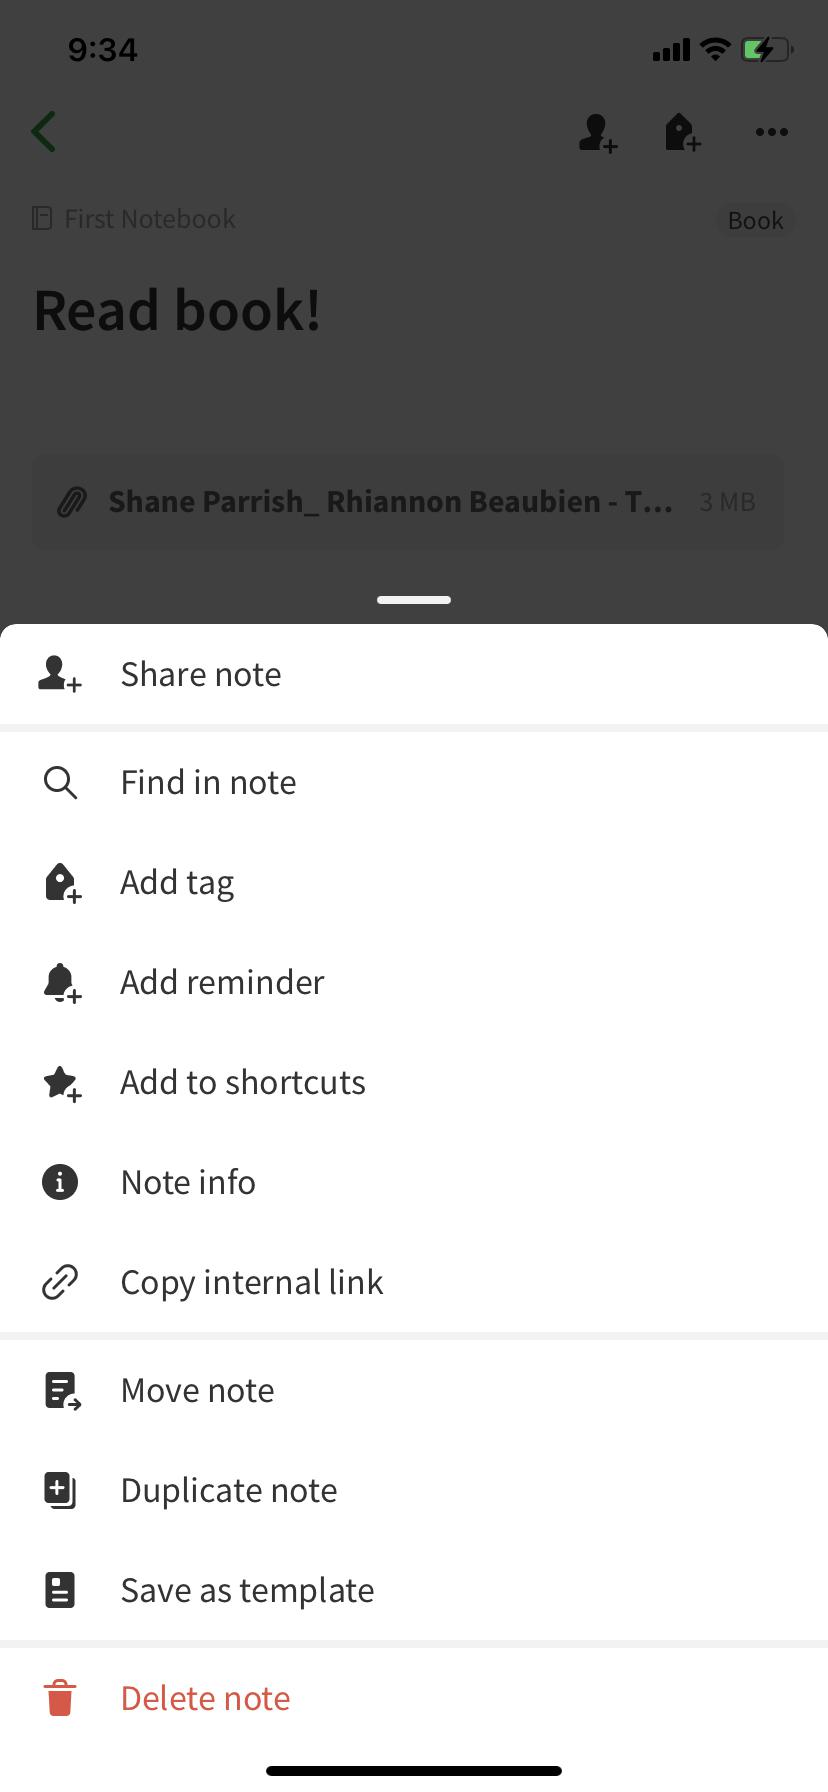Buttons: (707, 193, 797, 248)
